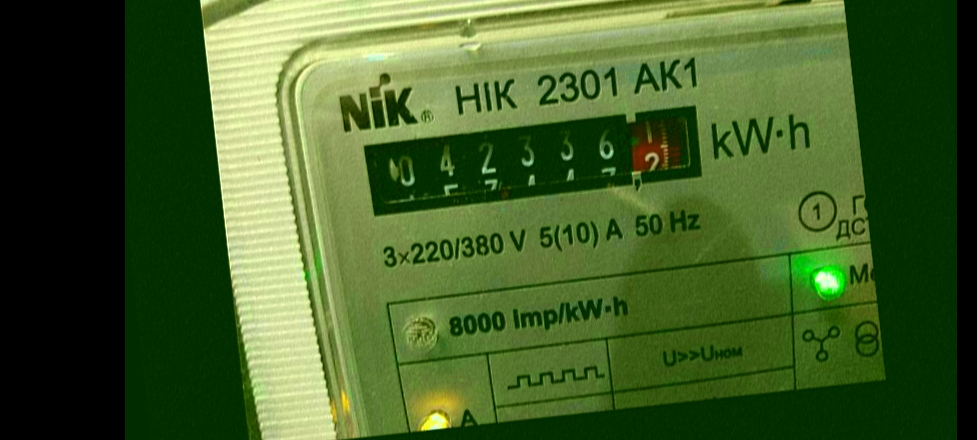0: (395, 152, 419, 189)
1: (641, 116, 657, 147)
2: (475, 139, 499, 177), (641, 150, 663, 173)
3: (516, 130, 539, 170), (553, 126, 577, 164)
4: (435, 140, 458, 179)
6: (592, 125, 618, 162)
screen: (355, 95, 715, 226)
